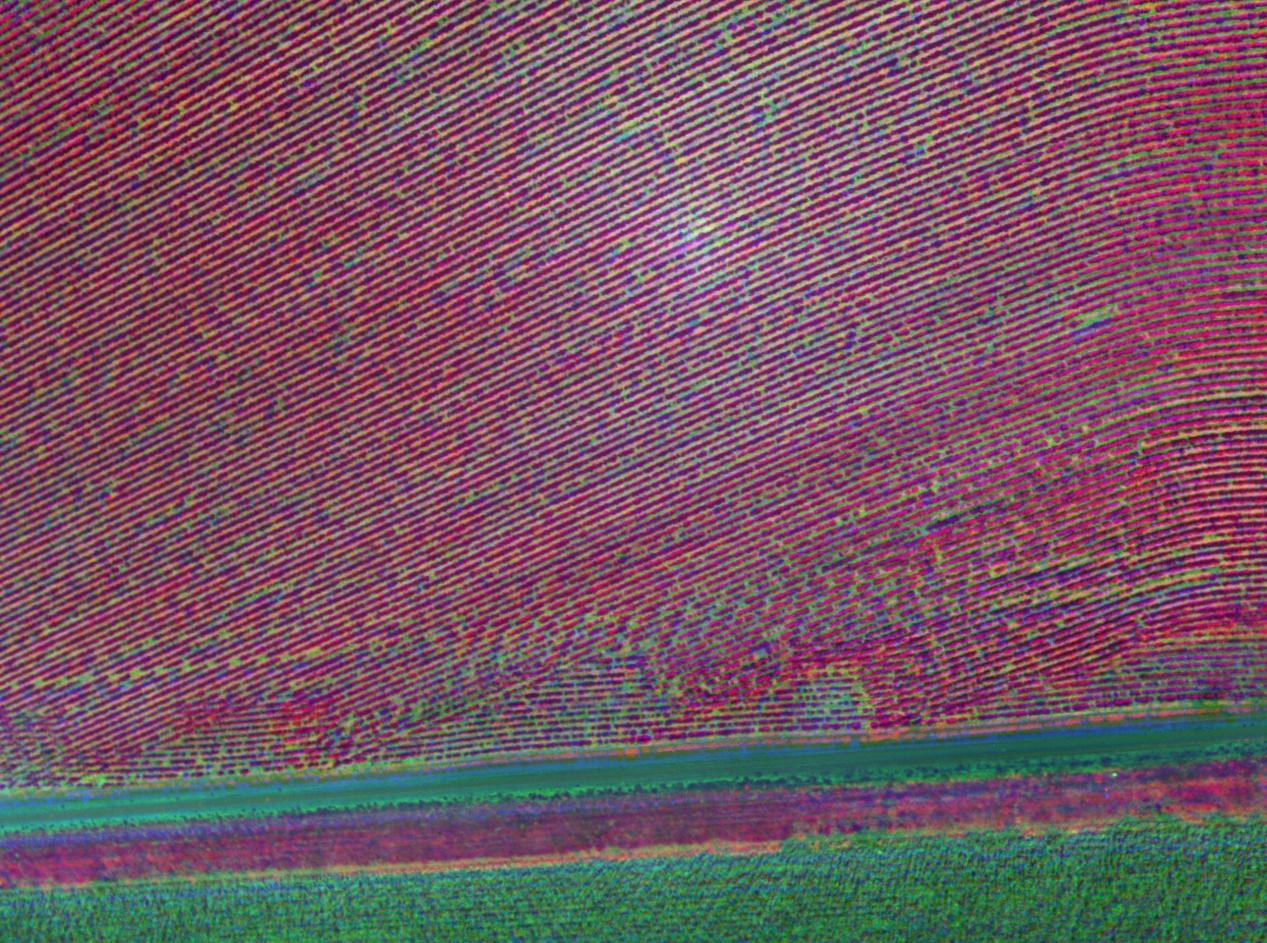dc: (661, 612, 667, 616), (847, 52, 852, 56), (62, 679, 66, 683), (417, 705, 421, 709), (767, 116, 770, 120), (638, 277, 641, 281), (701, 312, 705, 315), (1087, 320, 1090, 324), (858, 332, 862, 335), (512, 475, 515, 479), (587, 616, 590, 620), (288, 746, 292, 749), (463, 671, 466, 674), (132, 672, 135, 675), (616, 555, 620, 557), (705, 228, 707, 230)
